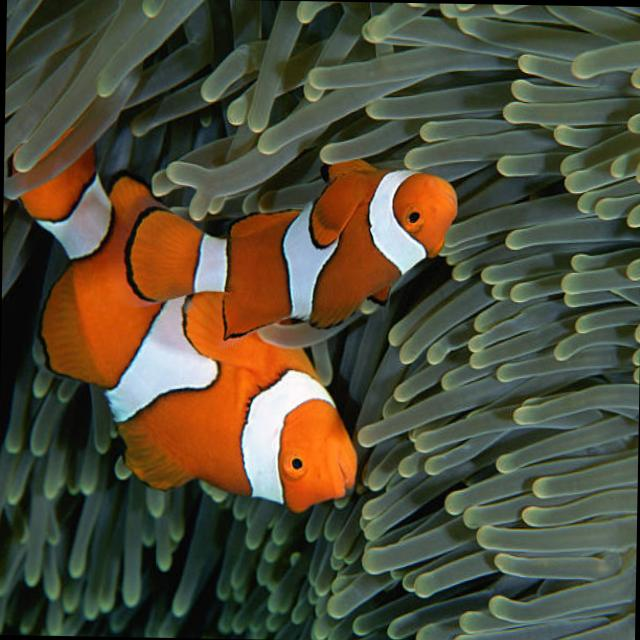ClownFish: (8, 143, 364, 515), (129, 155, 455, 337)
